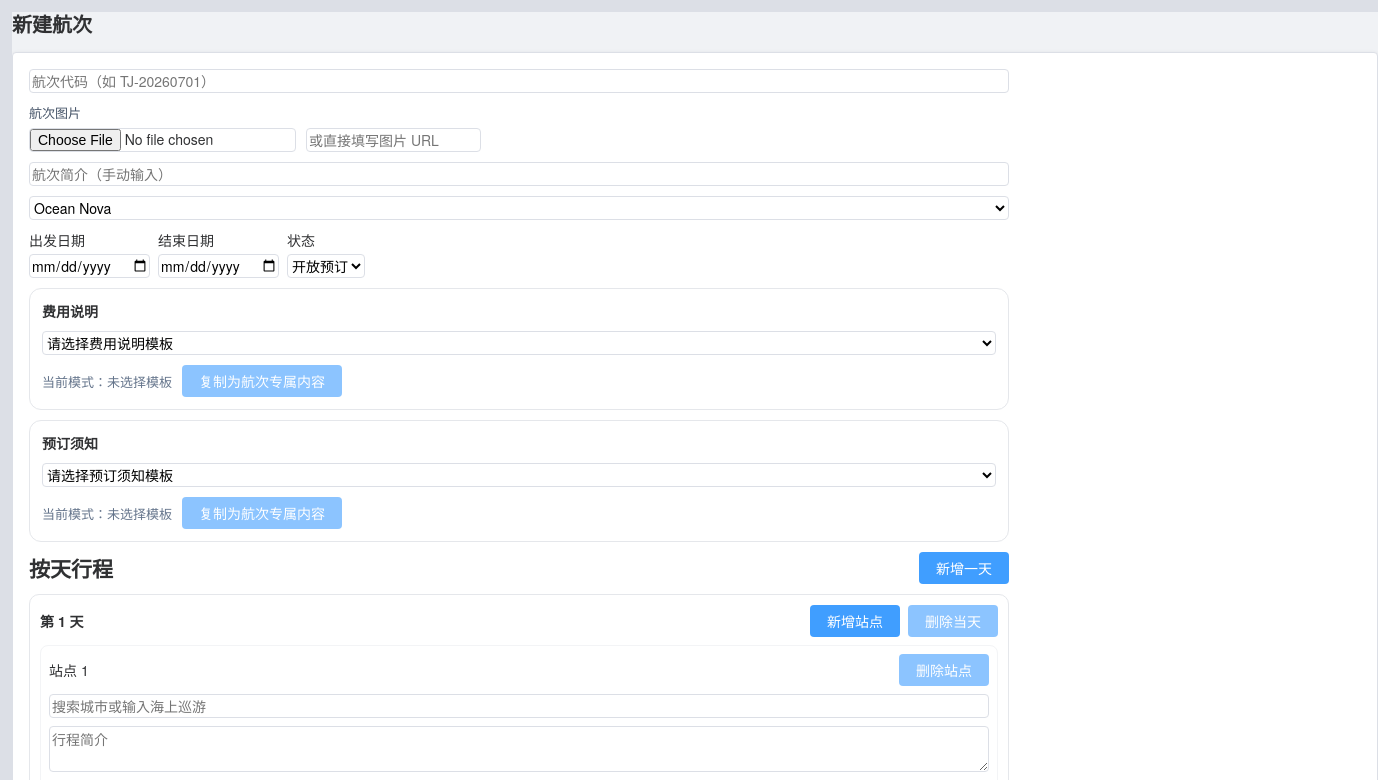
Test: VoyagesNewPage › 支持将海上巡游作为特殊站点从搜索结果中选择
The image size is (1378, 780).
Type "海上" into the field with test id "itinerary-city-1-1-input" at (519, 706), box [49,694,989,718]
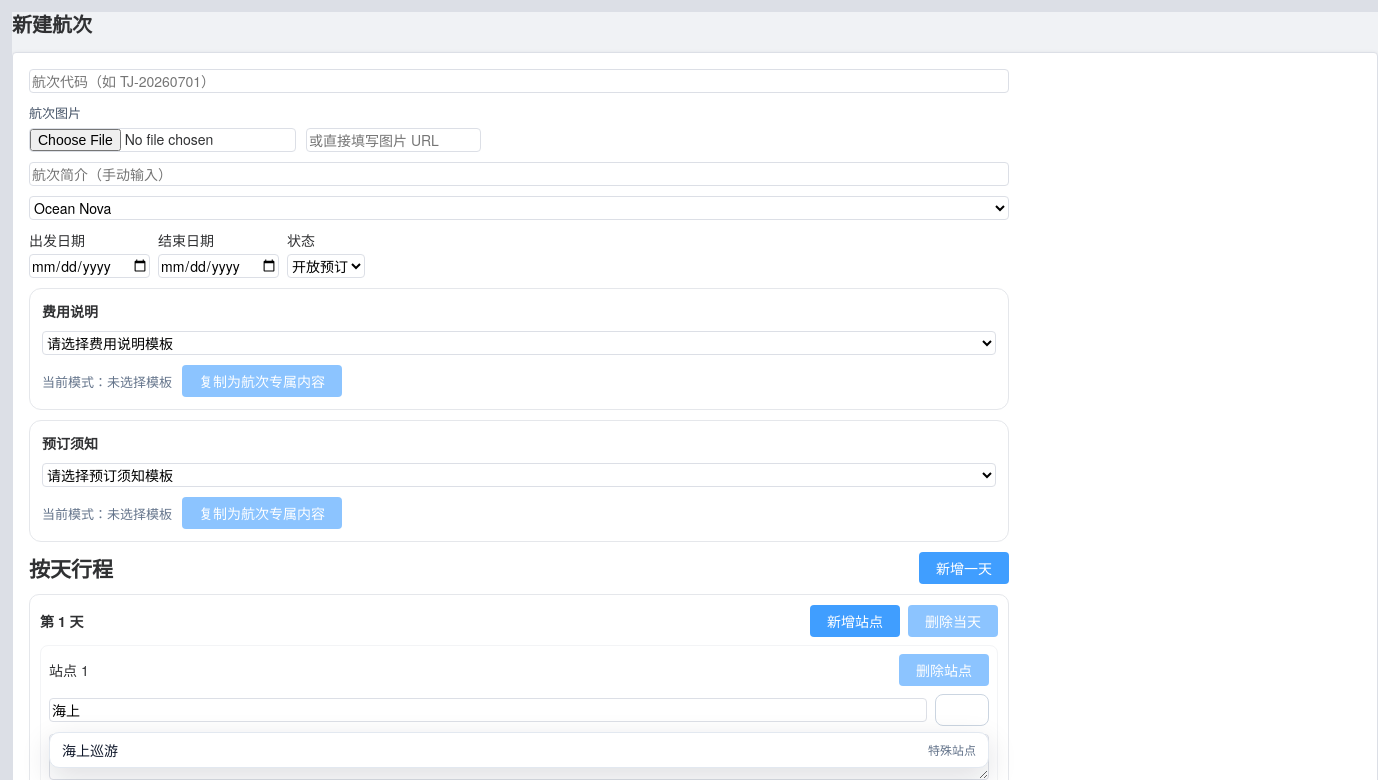
Click the button with test id "itinerary-city-1-1-option-0" at (90, 750), box [50,733,988,767]
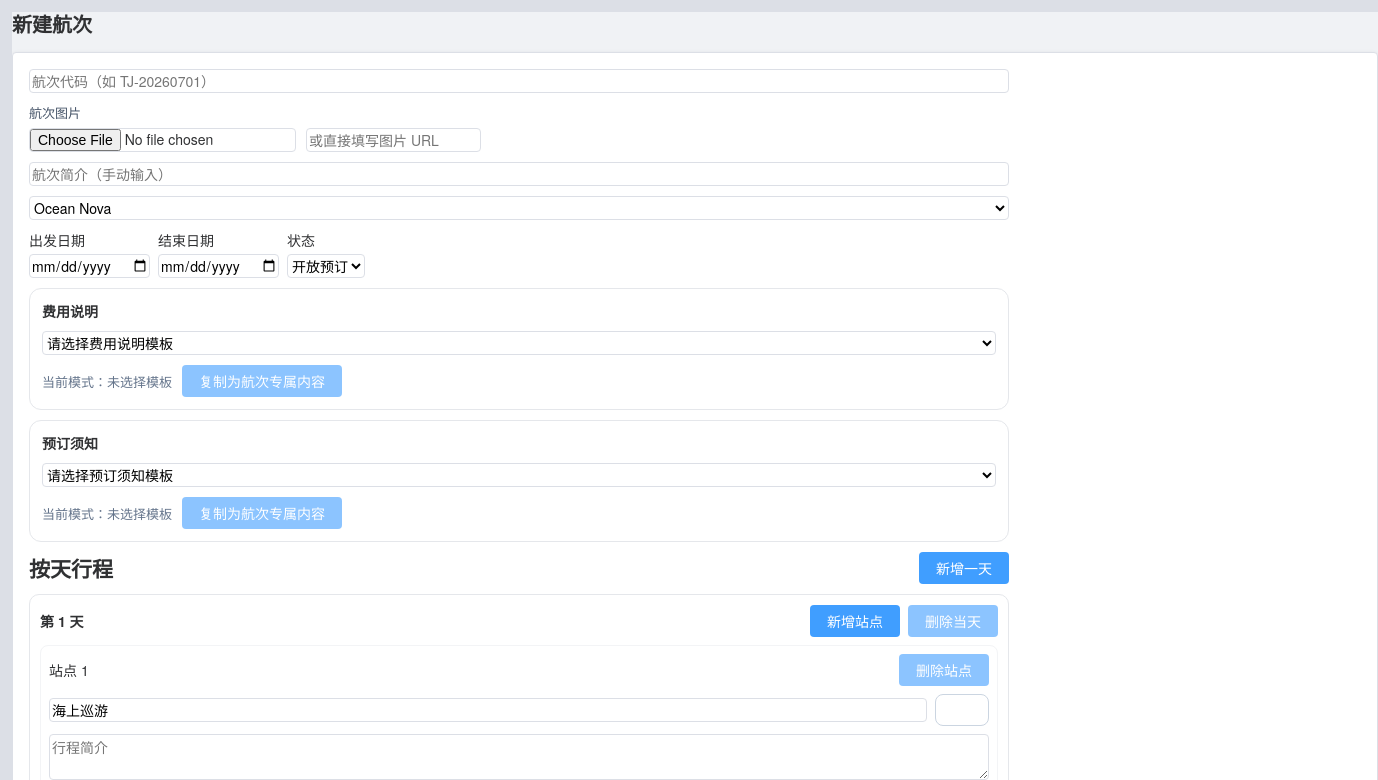
Now the field with test id "itinerary-city-1-1-input" holds "海上巡游", box [49,698,927,722]
